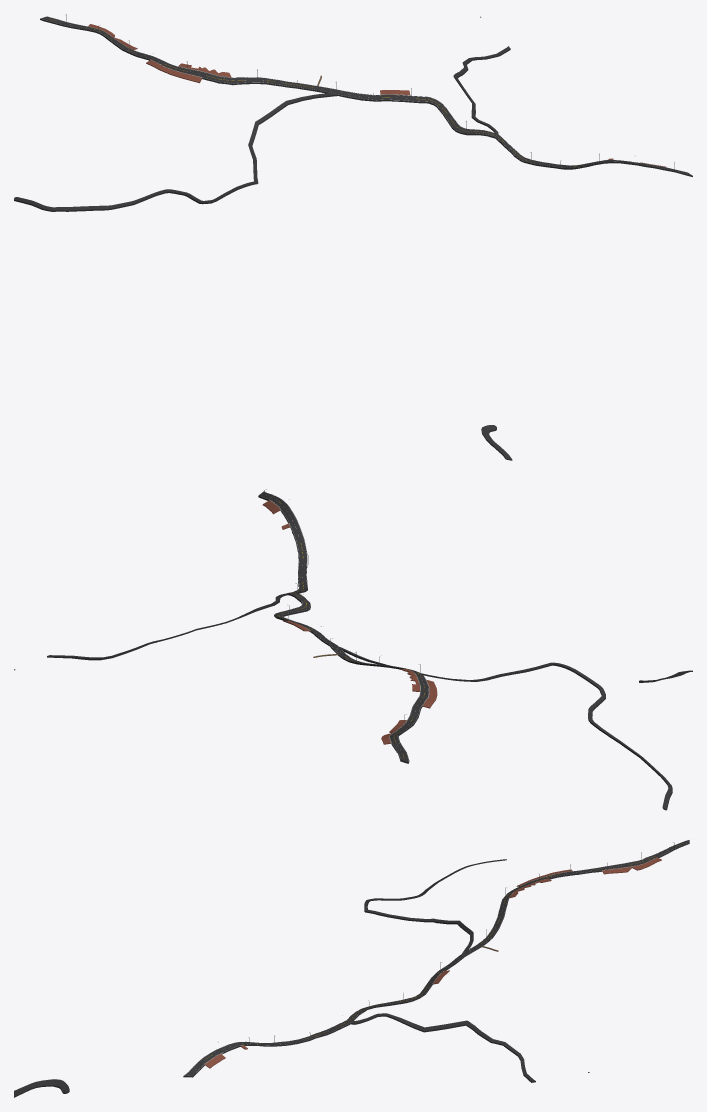
3 views of the same model, one above another, from view 1: azimuth 30°, elevation 25°; view 2: azimuth 150°, elevation 25°; view 3: azimuth 270°, elevation 25° (orthographic). The views are drawn at different scales.
Size of the model in its own units: 486 by 198 by 586.
